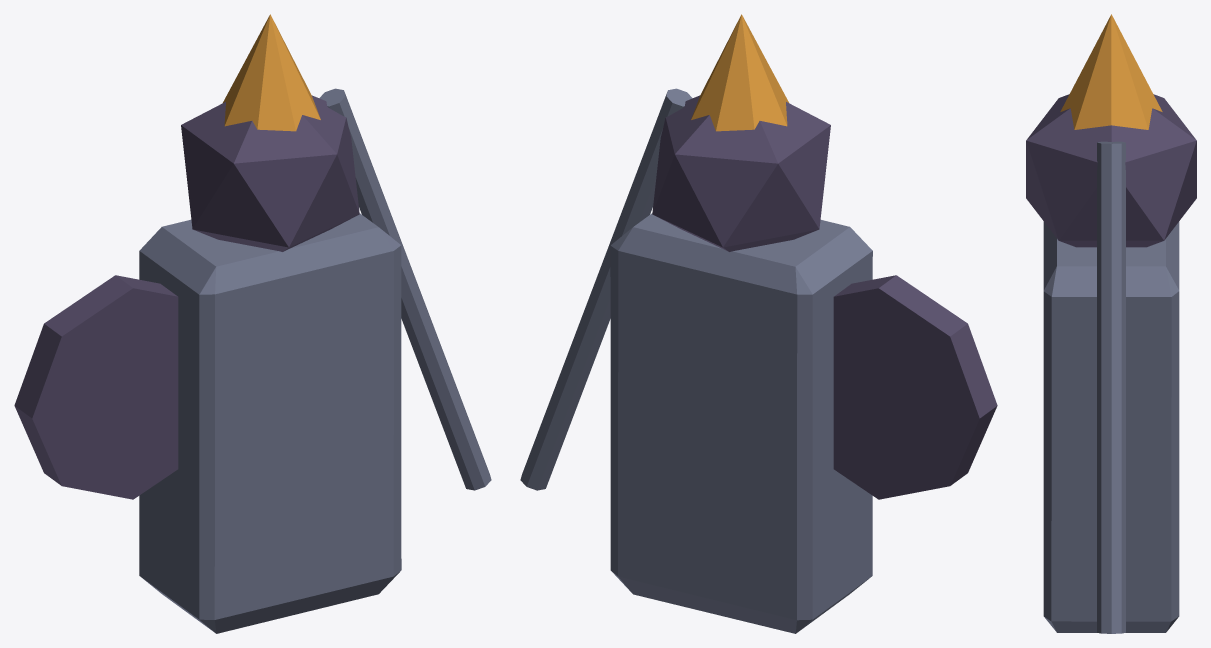
File: guard.glb
3 views of the same model, side by side, from view 1: azimuth 30°, elevation 25°; view 2: azimuth 150°, elevation 25°; view 3: azimuth 270°, elevation 25° (orthographic).
Parts seen in each view (by area): view 1: guard-body, guard-shield, guard-helm, guard-halberd, guard-helm-crest; view 2: guard-body, guard-shield, guard-helm, guard-halberd, guard-helm-crest; view 3: guard-body, guard-helm, guard-halberd, guard-helm-crest.
Boxes of the visible parts, x1,y1,x2,y2 form: guard-body: [139, 213, 401, 633]; guard-shield: [14, 275, 178, 499]; guard-helm: [181, 95, 359, 251]; guard-halberd: [319, 88, 491, 490]; guard-helm-crest: [223, 14, 320, 131]; guard-body: [610, 213, 872, 633]; guard-shield: [833, 275, 997, 499]; guard-helm: [652, 95, 830, 251]; guard-halberd: [520, 88, 692, 490]; guard-helm-crest: [691, 14, 788, 131]; guard-body: [1043, 221, 1179, 632]; guard-helm: [1026, 94, 1196, 247]; guard-halberd: [1097, 141, 1125, 633]; guard-helm-crest: [1060, 14, 1162, 129].
Size of the model in its own units: 1.66 by 1.98 by 0.5274.
